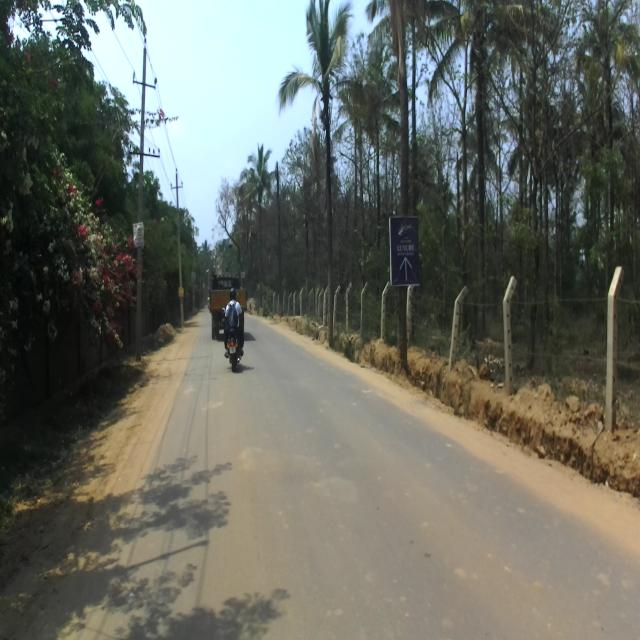barrier ahead at: (604, 254, 624, 444), (492, 274, 524, 392)
electric pole ahead at: (125, 29, 154, 358)
motorcycle ahead at: (218, 325, 251, 377)
